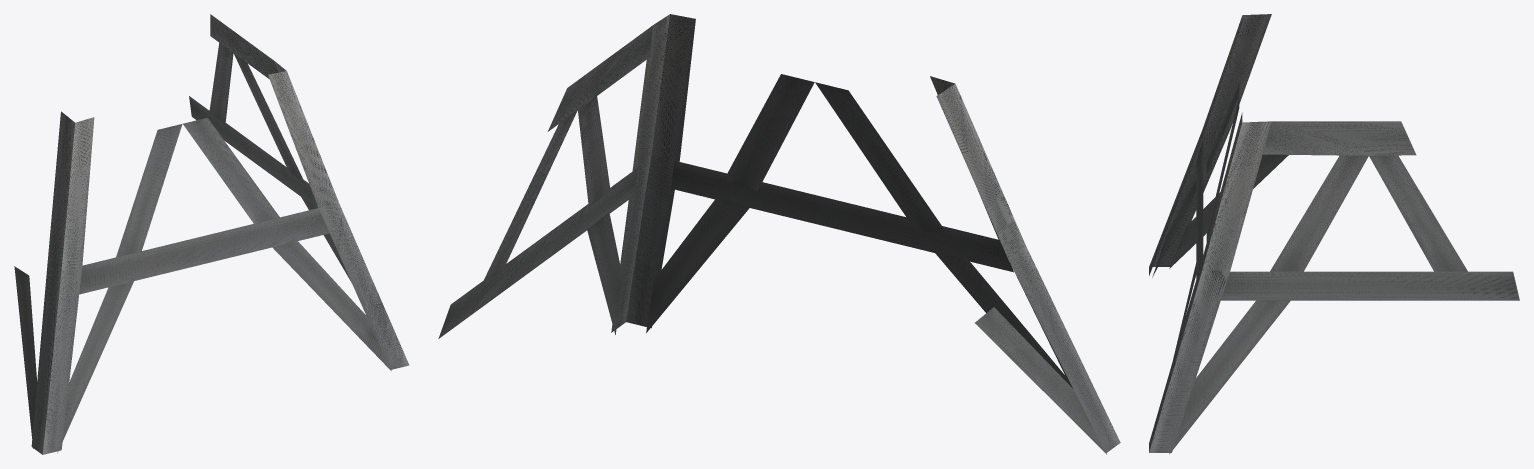
The model's file is B2Broke1.FBX.
The picture shows the model from 3 angles, left to right: view 1: azimuth 30°, elevation 25°; view 2: azimuth 150°, elevation 25°; view 3: azimuth 270°, elevation 25°; orthographic projection. The views are drawn at different scales.
Parts seen in each view (by area): view 1: B2Broke1 (×2); view 2: B2Broke1 (×2); view 3: B2Broke1 (×2).
Boxes of the visible parts, bbox=[...] form: B2Broke1 (×2): bbox=[14, 14, 409, 454]; B2Broke1 (×2): bbox=[438, 14, 1120, 454]; B2Broke1 (×2): bbox=[1149, 14, 1519, 454].
Bounding box in the file's own units: 89.23 × 66.28 × 75.24.
